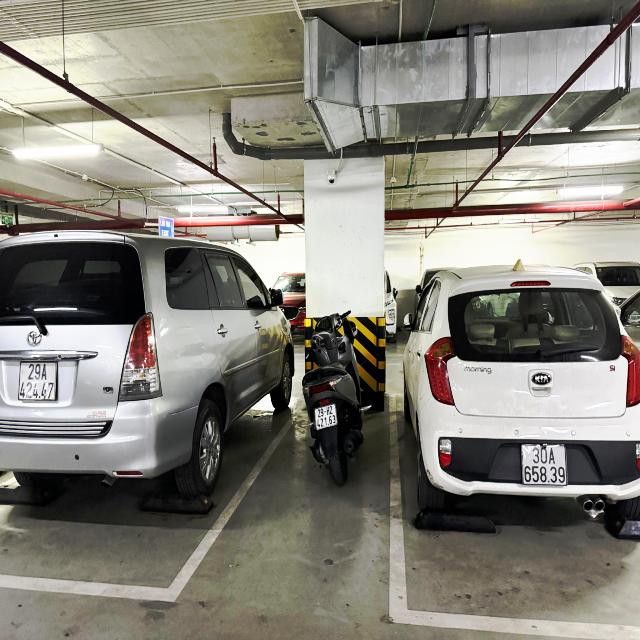license_plate: (523, 447, 568, 486), (20, 362, 59, 403), (316, 405, 338, 430)
